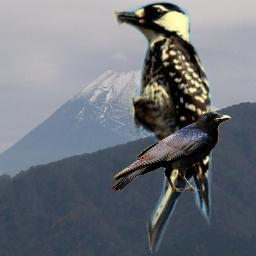Crow: (110, 110, 231, 192)
Woodpecker: (111, 1, 218, 253)
